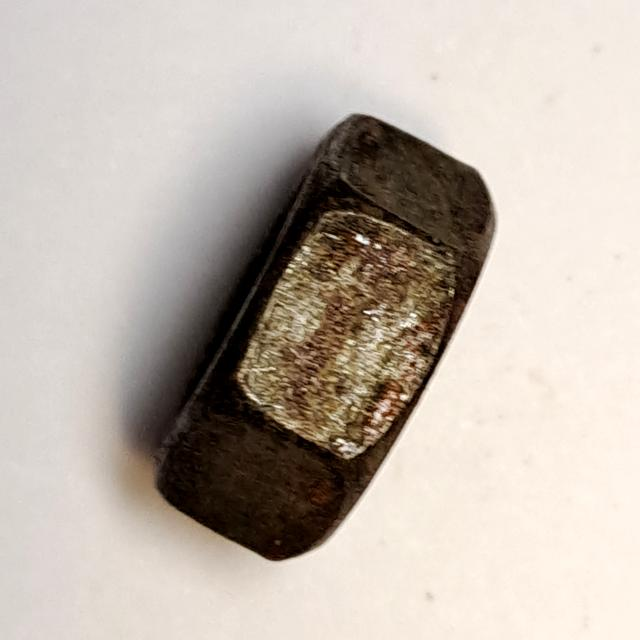Side_Rust: (139, 104, 513, 575)
